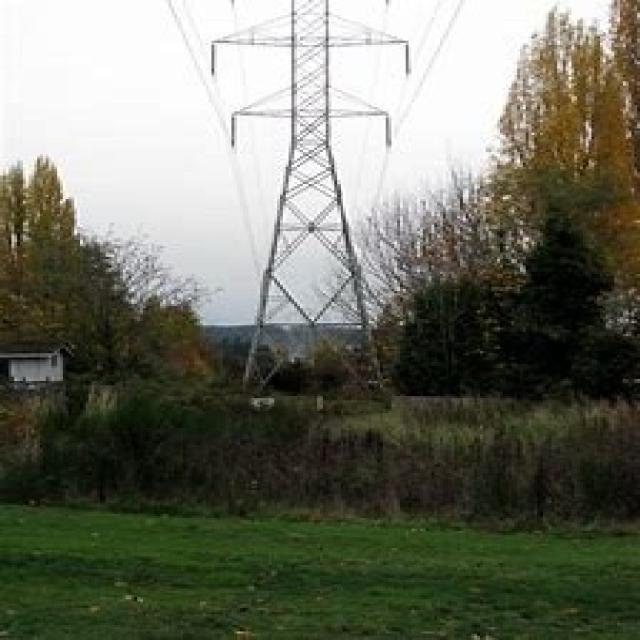utility poles: (180, 0, 457, 456)
